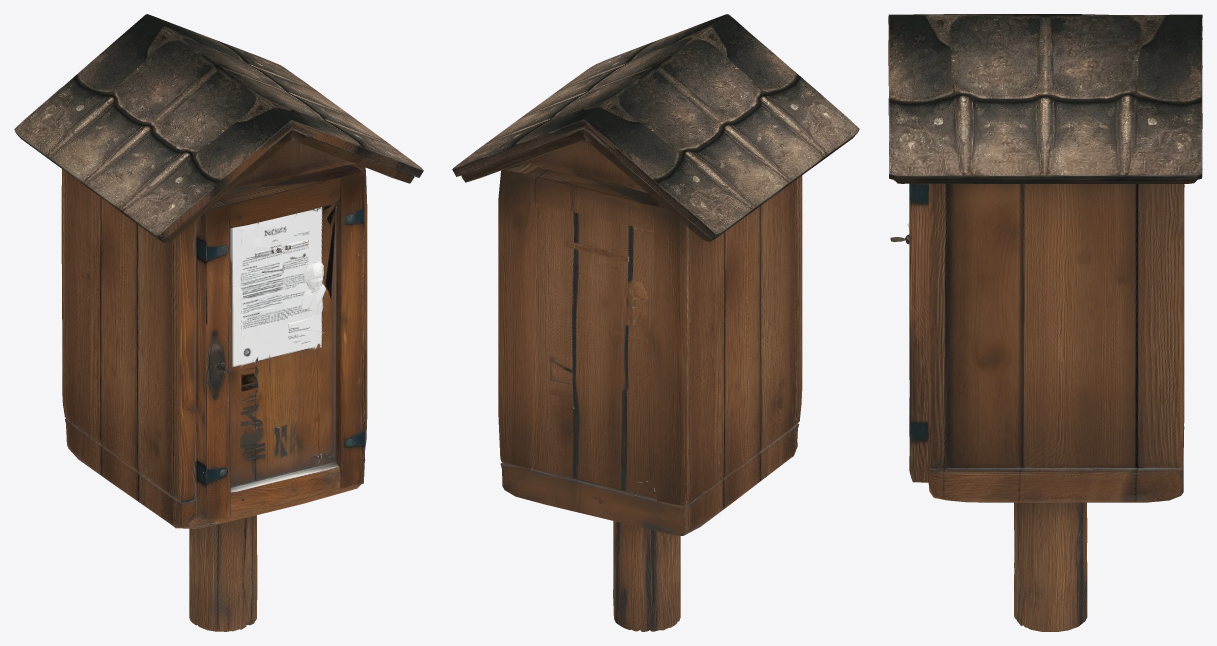
File: info_board.glb
3 views of the same model, side by side, from view 1: azimuth 30°, elevation 25°; view 2: azimuth 150°, elevation 25°; view 3: azimuth 270°, elevation 25° (orthographic). The views are drawn at different scales.
Bounding box in the file's own units: 0.9651 × 1.9 × 0.9018.
Materials: 1 (1 with a texture image).
